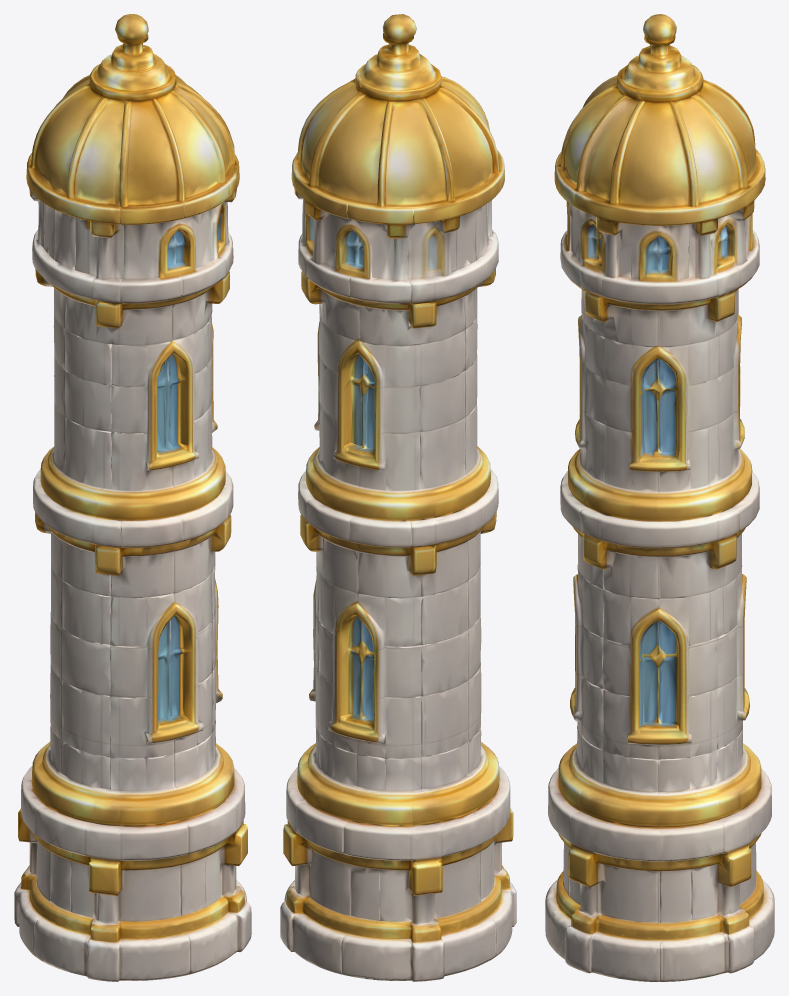
The model's file is HaloPart_CathTowerA_HD_src.glb.
3 views of the same model, side by side, from view 1: azimuth 30°, elevation 25°; view 2: azimuth 150°, elevation 25°; view 3: azimuth 270°, elevation 25° (orthographic).
Parts seen in each view (by area): view 1: tripo_node_acbbfe58-933e-4c01-a21f-63fdf017ac97; view 2: tripo_node_acbbfe58-933e-4c01-a21f-63fdf017ac97; view 3: tripo_node_acbbfe58-933e-4c01-a21f-63fdf017ac97.
Boxes of the visible parts, x1,y1,x2,y2 form: tripo_node_acbbfe58-933e-4c01-a21f-63fdf017ac97: (14,14,251,981); tripo_node_acbbfe58-933e-4c01-a21f-63fdf017ac97: (280,14,516,981); tripo_node_acbbfe58-933e-4c01-a21f-63fdf017ac97: (545,14,774,981).
Size of the model in its own units: 0.2199 by 0.9788 by 0.2215.
Materials: 1 (1 with a texture image).
